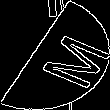M_NW: (12, 23, 98, 87)
